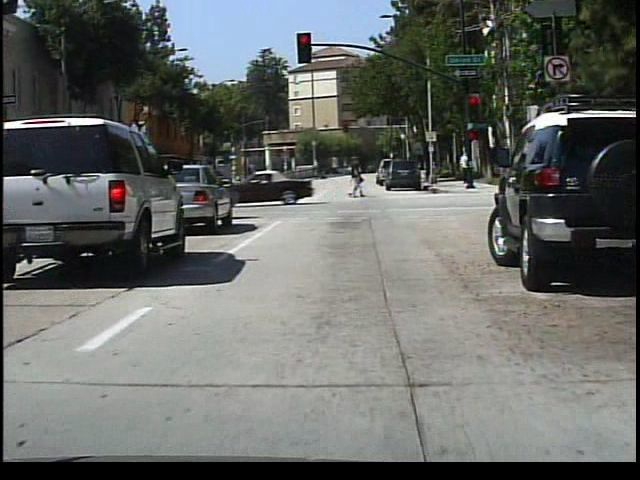person: (345, 159, 371, 200), (455, 149, 472, 189)
